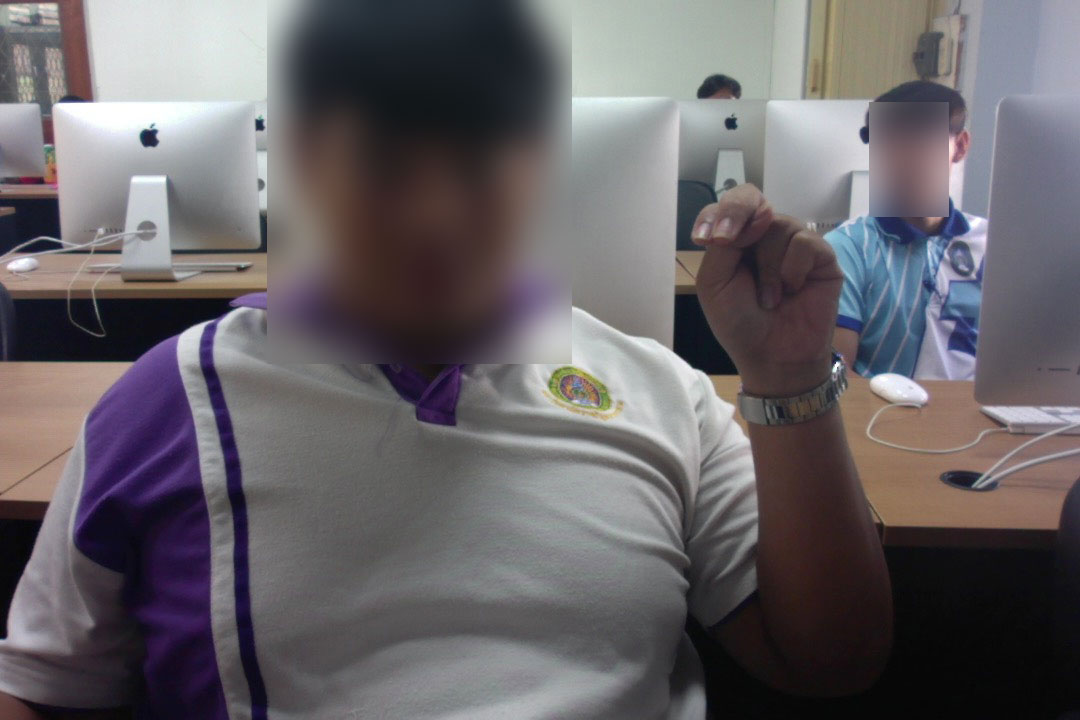nor: (685, 178, 851, 379)
